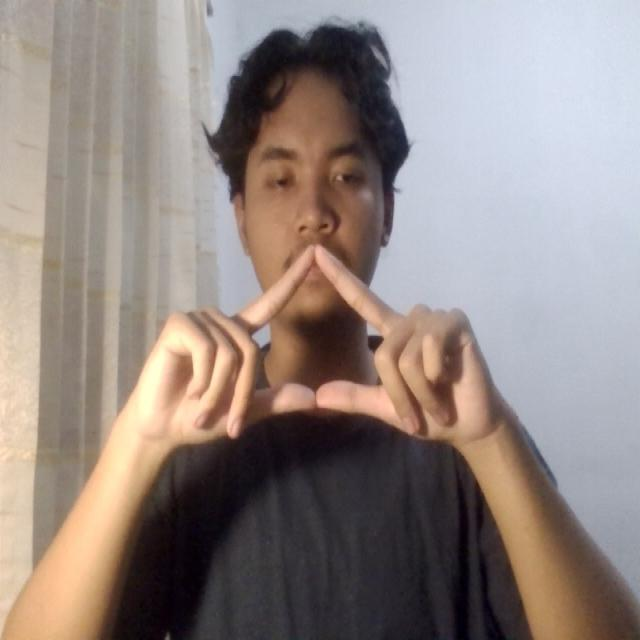A: (127, 222, 518, 469)
